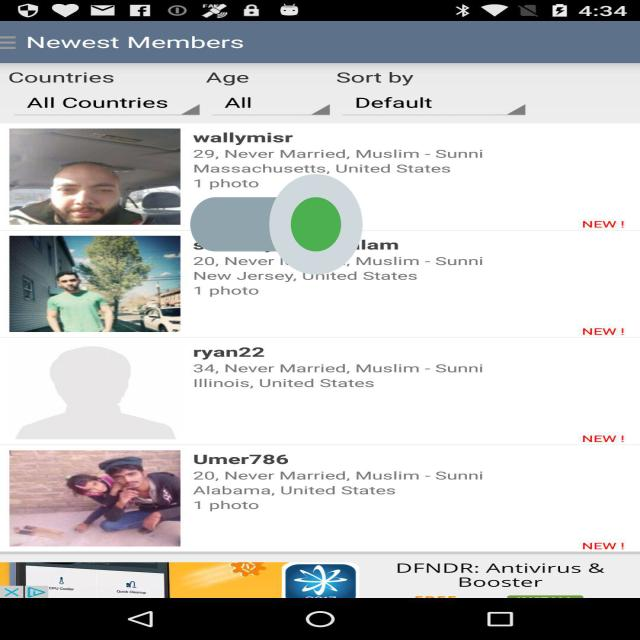social proof: (190, 132, 363, 318)
